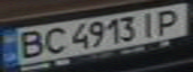1: (103, 16, 124, 45)
3: (118, 14, 142, 43)
4: (66, 20, 90, 51)
9: (87, 19, 109, 48)
B: (9, 28, 48, 61)
C: (36, 25, 69, 56)
I: (136, 9, 163, 38)
P: (151, 7, 187, 35)
